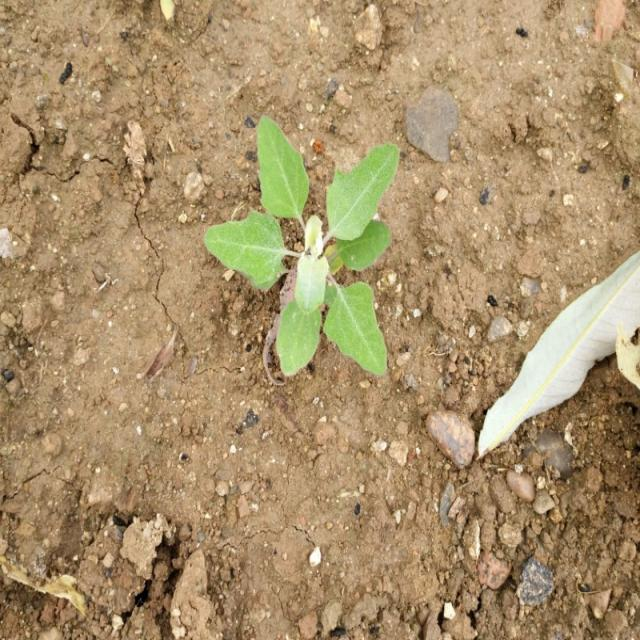ca: (205, 115, 401, 379)
